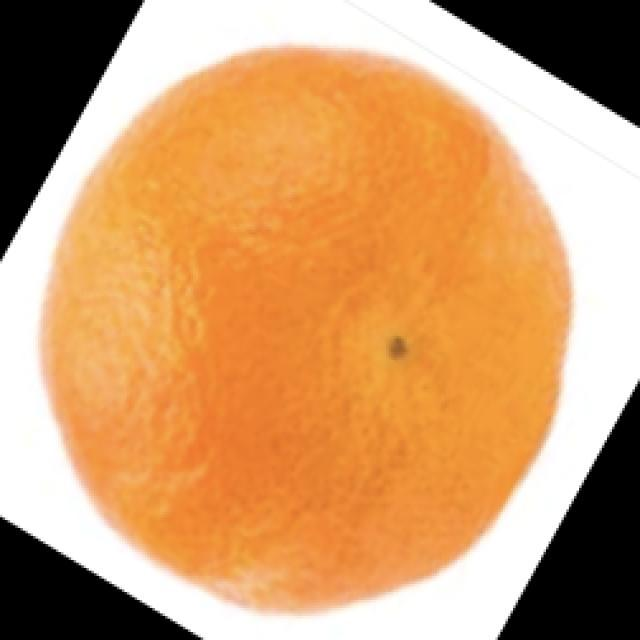Orange: (38, 42, 573, 615)
